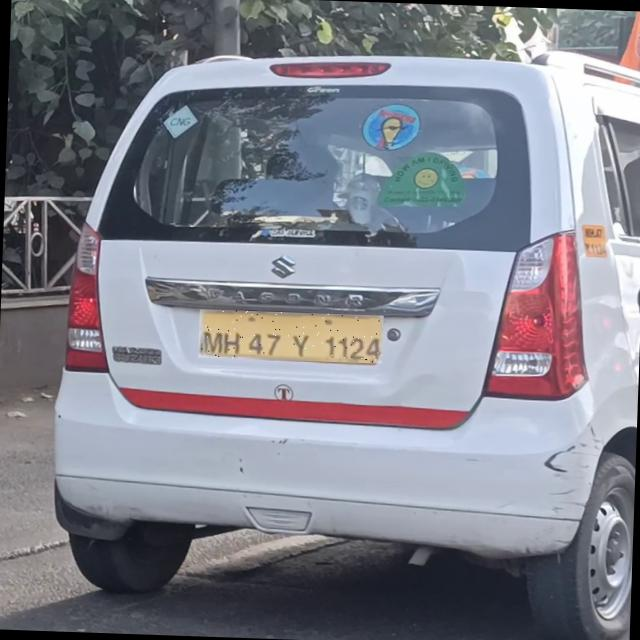Plate: (199, 310, 385, 364)
